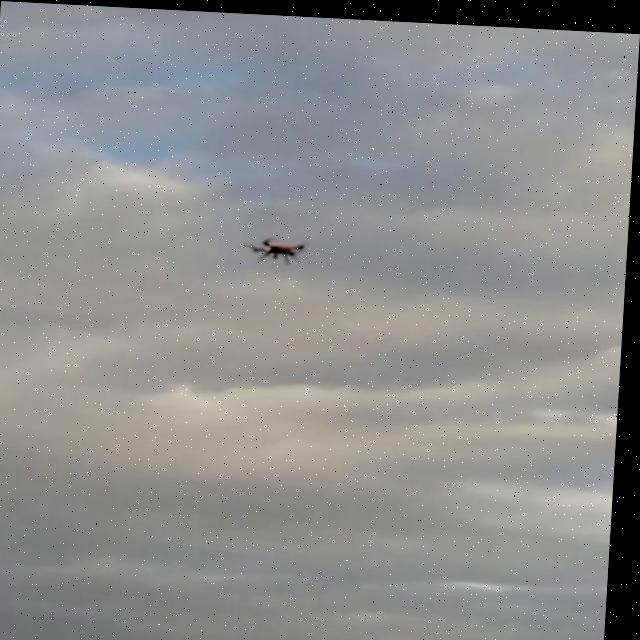drone: (245, 229, 317, 262)
